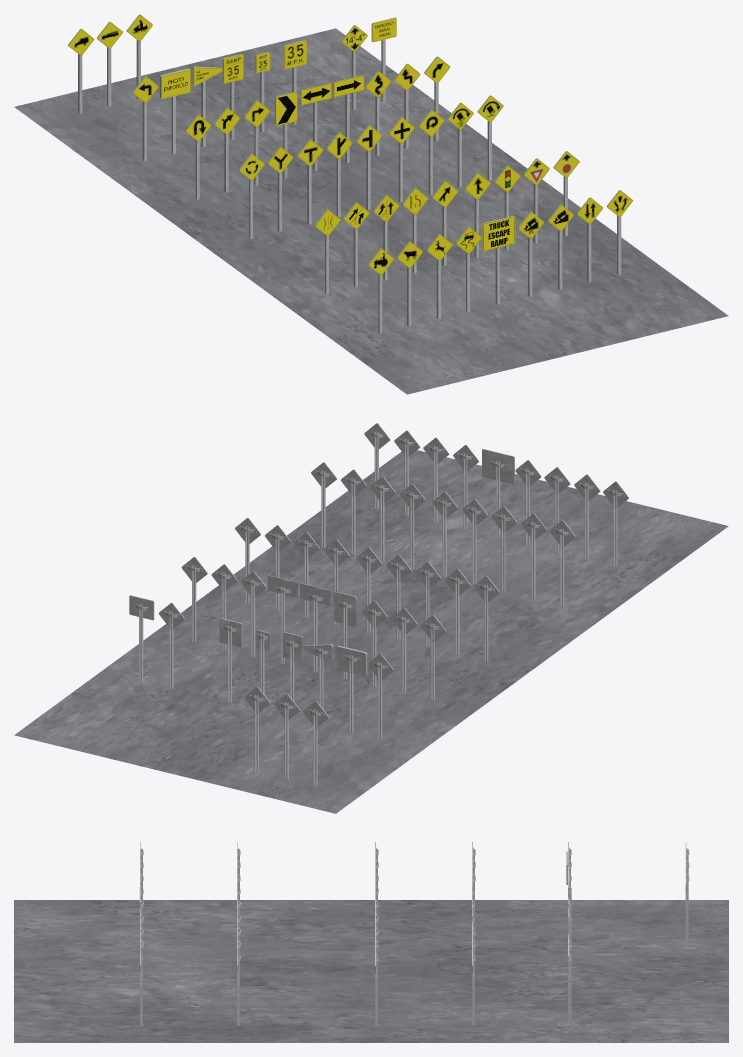
The model's file is nyc_us_signs.glb.
3 renders of one model, top to bottom at view 1: azimuth 30°, elevation 25°; view 2: azimuth 150°, elevation 25°; view 3: azimuth 270°, elevation 25°, orthographic. The views are drawn at different scales.
Parts seen in each view (by area): view 1: Plane, Cube.011, Cube.079, Cube.065; view 2: Plane, Cube.011, Cube.079, Cube.065; view 3: Plane.
Part boxes in pixels (<box>): Plane: <box>14,28,728,394</box>; Cube.011: <box>482,216,515,251</box>; Cube.079: <box>160,68,190,99</box>; Cube.065: <box>275,91,297,126</box>; Plane: <box>14,450,728,813</box>; Cube.011: <box>482,449,514,484</box>; Cube.079: <box>336,645,367,676</box>; Cube.065: <box>334,592,356,626</box>; Plane: <box>14,900,728,1042</box>.
Bounding box in the file's own units: 10.36 × 2.61 × 21.9.
3 materials, 3 textured.
